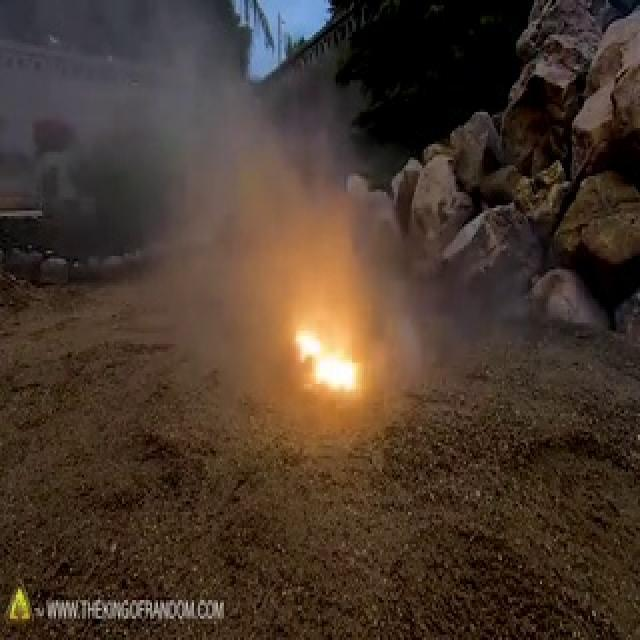fire: (288, 280, 378, 398)
